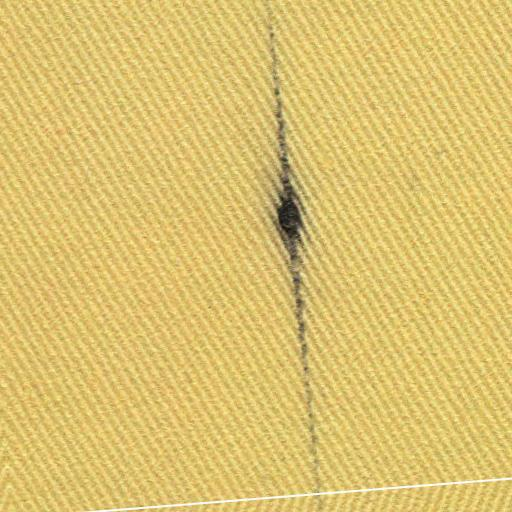stain: (254, 0, 339, 511)
